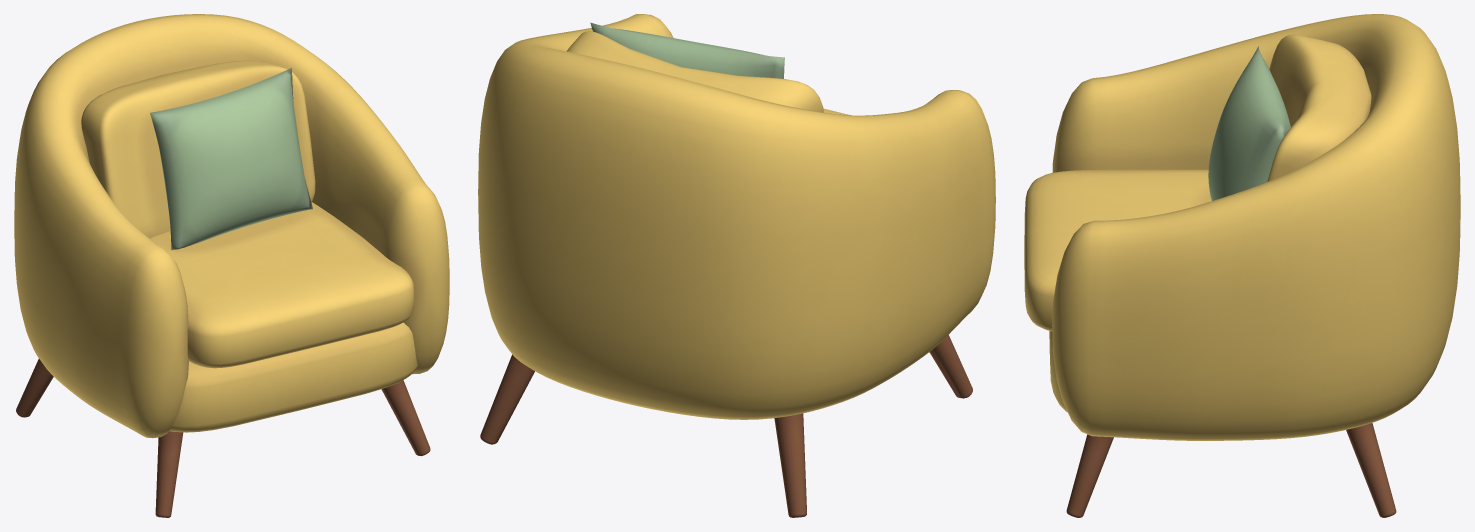
Rendered from armchair.glb.
3 renders of one model, left to right at view 1: azimuth 30°, elevation 25°; view 2: azimuth 150°, elevation 25°; view 3: azimuth 270°, elevation 25°, orthographic. The views are drawn at different scales.
Visible parts, largest first — view 1: armchair_body; view 2: armchair_body; view 3: armchair_body.
Part boxes in pixels (x1,y1,x2,y2): armchair_body: (14, 14, 449, 517); armchair_body: (478, 14, 995, 517); armchair_body: (1024, 14, 1460, 517).
Bounding box in the file's own units: 0.7931 × 0.785 × 0.79.
Materials: 1 (1 with a texture image).
